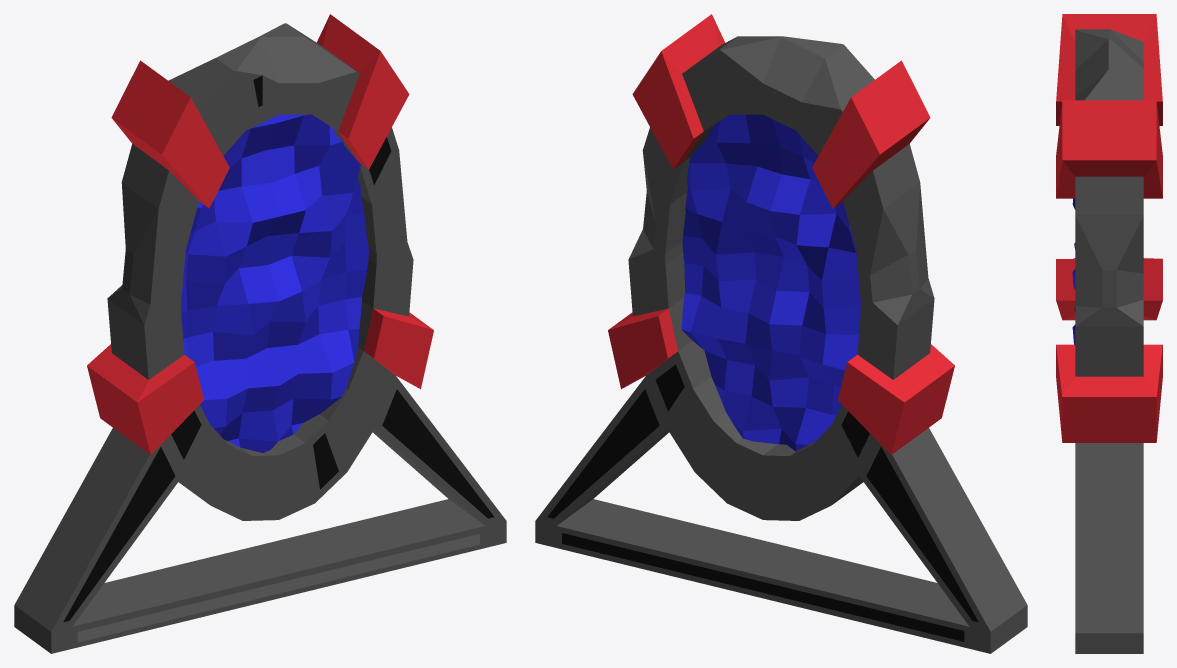
Rendered from portal_02.fbx.
The picture shows the model from 3 angles, left to right: view 1: azimuth 30°, elevation 25°; view 2: azimuth 150°, elevation 25°; view 3: azimuth 270°, elevation 25°; orthographic projection. The views are drawn at different scales.
Visible parts, largest first — view 1: Plane, Plane.007, Plane.002, Plane.001, Plane.003, Plane.004; view 2: Plane, Plane.007, Plane.002, Plane.001, Plane.003, Plane.004; view 3: Plane, Plane.003, Plane.004, Plane.002, Plane.001, Plane.007.
Boxes of the visible parts, <box> form: Plane: <box>14,23,506,653</box>; Plane.007: <box>181,114,368,452</box>; Plane.002: <box>111,60,229,208</box>; Plane.001: <box>87,344,204,454</box>; Plane.003: <box>317,14,409,169</box>; Plane.004: <box>364,308,433,389</box>; Plane: <box>535,36,1027,653</box>; Plane.007: <box>681,114,860,451</box>; Plane.002: <box>812,60,930,208</box>; Plane.001: <box>837,344,954,454</box>; Plane.003: <box>632,14,725,169</box>; Plane.004: <box>608,308,677,389</box>; Plane: <box>1075,29,1143,653</box>; Plane.003: <box>1056,100,1162,198</box>; Plane.004: <box>1056,344,1162,442</box>; Plane.002: <box>1056,14,1162,125</box>; Plane.001: <box>1056,258,1162,320</box>; Plane.007: <box>1072,198,1075,344</box>.
Size of the model in its own units: 699 by 805 by 152.
